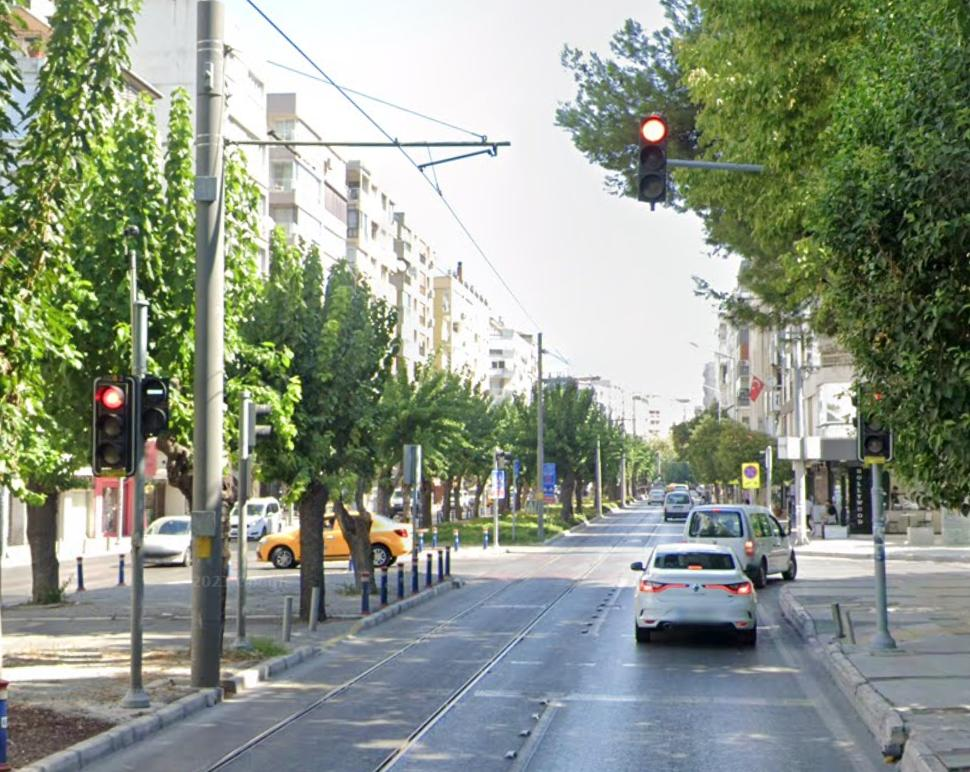redlight: (95, 379, 128, 465), (640, 115, 665, 198)
